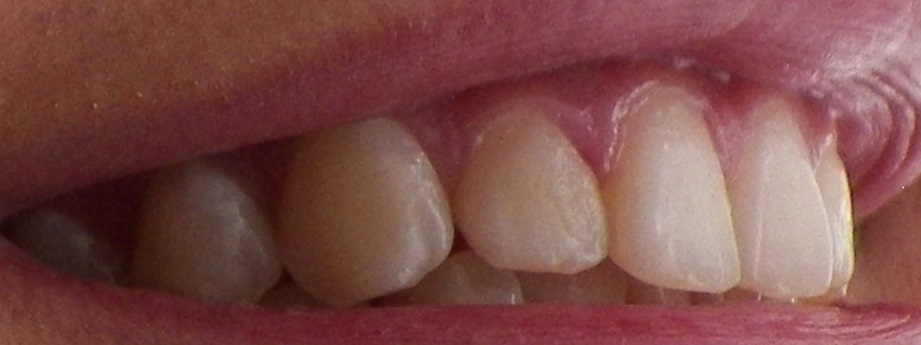boca: (21, 127, 859, 291)
